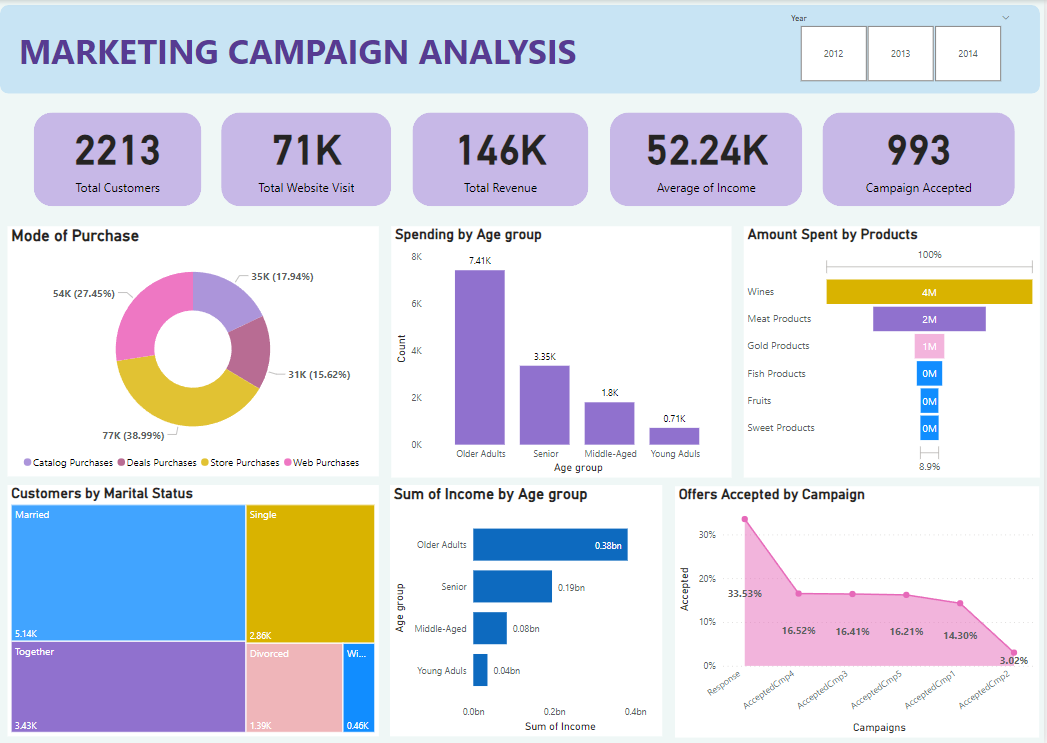

What the dashboard file says about the page in this screenshot:
{"tool":"powerbi","page":{"name":"Page 1","canvas":[1400,1000],"ordinal":0},"visuals":[{"type":"cardVisual","fields":{"Data":["Count(Market campgn.ID)"]},"box":[40,145,235,136.7],"z":0},{"type":"cardVisual","fields":{"Data":["Sum(Market campgn.NumWebVisitsMonth)"]},"box":[291.7,145,238.3,136.7],"z":1000},{"type":"cardVisual","fields":{"Data":["Sum(Market campgn.Z_Revenue)"]},"box":[548.3,145,246.7,136.7],"z":2000},{"type":"cardVisual","fields":{"Data":["Avg(Market campgn.Income)"]},"box":[811.7,145,268.3,136.7],"z":3000},{"type":"donutChart","title":"Mode of Purchase","fields":{"Y":["Sum(Market campgn.NumCatalogPurchases)","Sum(Market campgn.NumDealsPurchases)","Sum(Market campgn.NumStorePurchases)","Sum(Market campgn.NumWebPurchases)"]},"box":[10.1,303.2,497.5,335],"z":4000},{"type":"clusteredColumnChart","title":"Spending by Age group","fields":{"Category":["Market campgn.Age group"],"Y":["CountNonNull(Market campgn.Age group)"]},"box":[524.3,303.2,455.6,336.7],"z":5000},{"type":"treemap","title":"Customers by Marital Status","fields":{"Group":["Market campgn.Marital_Status"],"Values":["CountNonNull(Market campgn.ID)"]},"box":[10,650,496.7,336.7],"z":6000},{"type":"funnel","title":"Amount Spent by Products","fields":{"Y":["Sum(Market campgn.MntWines)","Sum(Market campgn.MntMeatProducts)","Sum(Market campgn.MntGoldProds)","Sum(Market campgn.MntFishProducts)","Sum(Market campgn.MntFruits)","Sum(Market campgn.MntSweetProducts)"]},"box":[996.6,303.2,397,336.7],"z":7000},{"type":"shape","box":[0,6.7,1393.6,118.9],"z":8000},{"type":"clusteredBarChart","fields":{"Category":["Market campgn.Age group"],"Y":["Sum(Market campgn.Income)"]},"box":[523.3,650,365,336.7],"z":9000},{"type":"stackedAreaChart","title":"Offers Accepted by Campaign","fields":{"Category":["Market campgn.Campaign"],"Y":["Sum(Market campgn.Accepted)"]},"box":[905,651.7,488.3,336.7],"z":10000},{"type":"cardVisual","fields":{"Data":["Sum(Market campgn.Accepted)"]},"box":[1096.7,145,268.3,136.7],"z":11000},{"type":"slicer","fields":{"Values":["Market campgn.Dt_Customer.Variation.Date Hierarchy.Year"]},"box":[1065.3,18.4,299.8,87.1],"z":11001}]}

Visuals, with their boxes in screenshot pixels (x1, y1, x2, y2), scaled from the page's 1400x1000 canvas onto the 1047x743 screenshot:
cardVisual - Count(Market campgn.ID): box(30, 108, 206, 209)
cardVisual - Sum(Market campgn.NumWebVisitsMonth): box(218, 108, 396, 209)
cardVisual - Sum(Market campgn.Z_Revenue): box(410, 108, 595, 209)
cardVisual - Avg(Market campgn.Income): box(607, 108, 808, 209)
"Mode of Purchase" donutChart: box(8, 225, 380, 474)
"Spending by Age group" clusteredColumnChart: box(392, 225, 733, 475)
"Customers by Marital Status" treemap: box(7, 483, 379, 733)
"Amount Spent by Products" funnel: box(745, 225, 1042, 475)
shape: box(0, 5, 1042, 93)
clusteredBarChart - Market campgn.Age group x Sum(Market campgn.Income): box(391, 483, 664, 733)
"Offers Accepted by Campaign" stackedAreaChart: box(677, 484, 1042, 734)
cardVisual - Sum(Market campgn.Accepted): box(820, 108, 1021, 209)
slicer - Market campgn.Dt_Customer.Variation.Date Hierarchy.Year: box(797, 14, 1021, 78)
